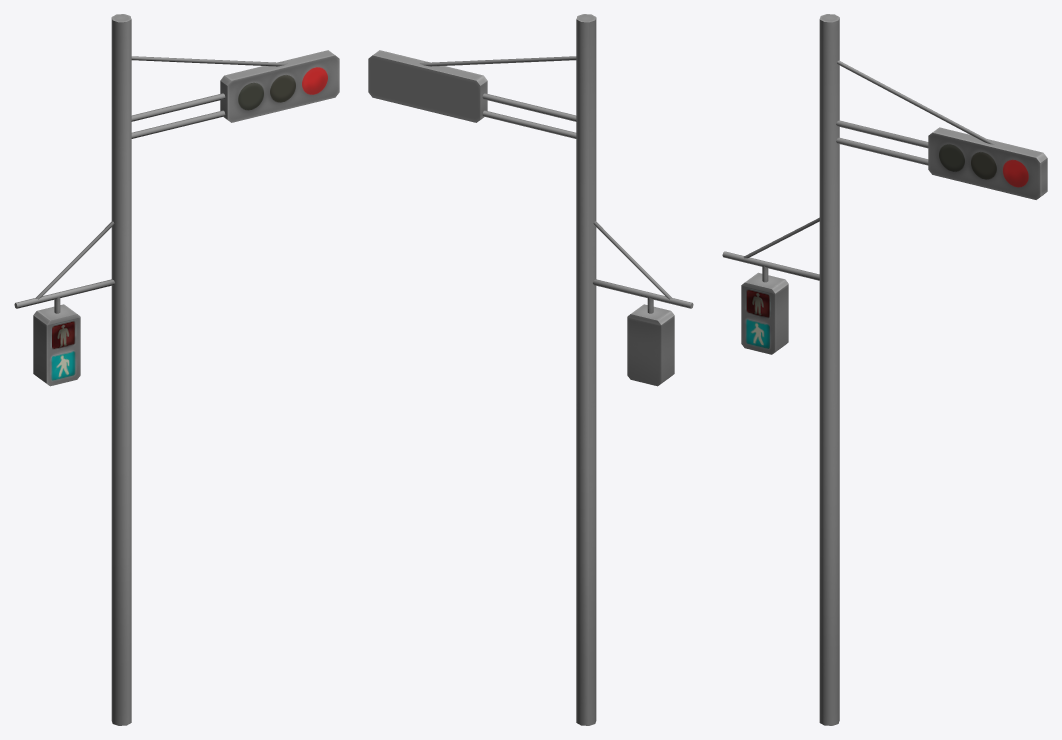
File: BgMD_TrafficLight_01.fbx
3 renders of one model, left to right at view 1: azimuth 30°, elevation 25°; view 2: azimuth 150°, elevation 25°; view 3: azimuth 330°, elevation 25°, orthographic.
Visible parts, largest first — view 1: BgMD_TrafficLight_01; view 2: BgMD_TrafficLight_01; view 3: BgMD_TrafficLight_01.
Boxes of the visible parts, x1,y1,x2,y2 form: BgMD_TrafficLight_01: (14,14,339,725); BgMD_TrafficLight_01: (368,14,693,725); BgMD_TrafficLight_01: (722,14,1047,725).
Bounding box in the file's own units: 357 × 750 × 26.
Materials: 1 (1 with a texture image).
